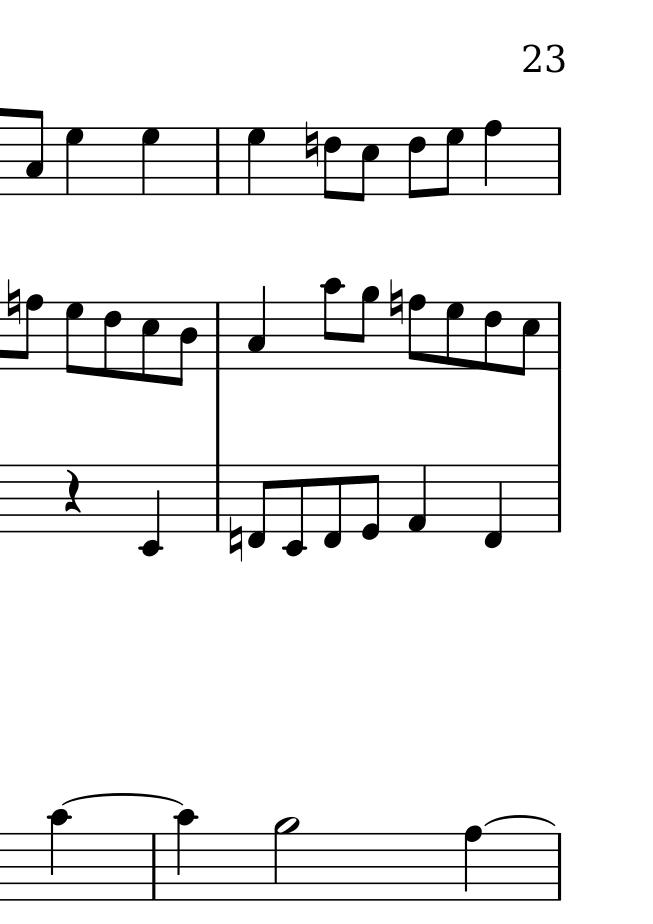2: (522, 44, 546, 72)
2_9: (272, 815, 301, 903)
3: (545, 44, 566, 77)
4_-1: (482, 463, 504, 550)
4_-2: (139, 462, 162, 558)
4_1: (404, 463, 428, 535)
4_10: (172, 809, 198, 903), (47, 808, 72, 903)
4_3: (246, 286, 267, 370)
4_7: (139, 127, 161, 196), (245, 127, 266, 197), (63, 127, 84, 196)
4_8: (462, 824, 485, 904), (482, 119, 502, 197)
8_-1: (246, 463, 273, 550), (322, 462, 343, 549)
8_-2: (281, 463, 306, 556)
8_0: (360, 463, 382, 543)
8_10: (320, 276, 344, 371)
8_3: (23, 109, 45, 196)
8_4: (172, 301, 199, 389)
8_5: (353, 126, 380, 204), (515, 300, 540, 378), (139, 300, 160, 385)
8_6: (102, 300, 122, 380), (406, 126, 427, 200), (322, 127, 342, 202), (483, 300, 503, 374)
8_7: (437, 126, 464, 197), (64, 300, 84, 376), (444, 301, 465, 371)
8_8: (17, 293, 44, 372), (407, 293, 427, 372)
8_9: (353, 286, 379, 371)
Natural: (387, 277, 404, 326), (227, 514, 244, 563), (5, 277, 21, 326), (303, 120, 319, 168)
Rests4: (62, 467, 81, 514)
Single_barline: (550, 832, 567, 902), (551, 127, 568, 196), (210, 128, 226, 193), (210, 304, 226, 369), (551, 466, 567, 531), (552, 301, 567, 370), (210, 466, 226, 530), (146, 835, 162, 898)
Slur: (58, 792, 185, 807), (482, 813, 555, 830)
